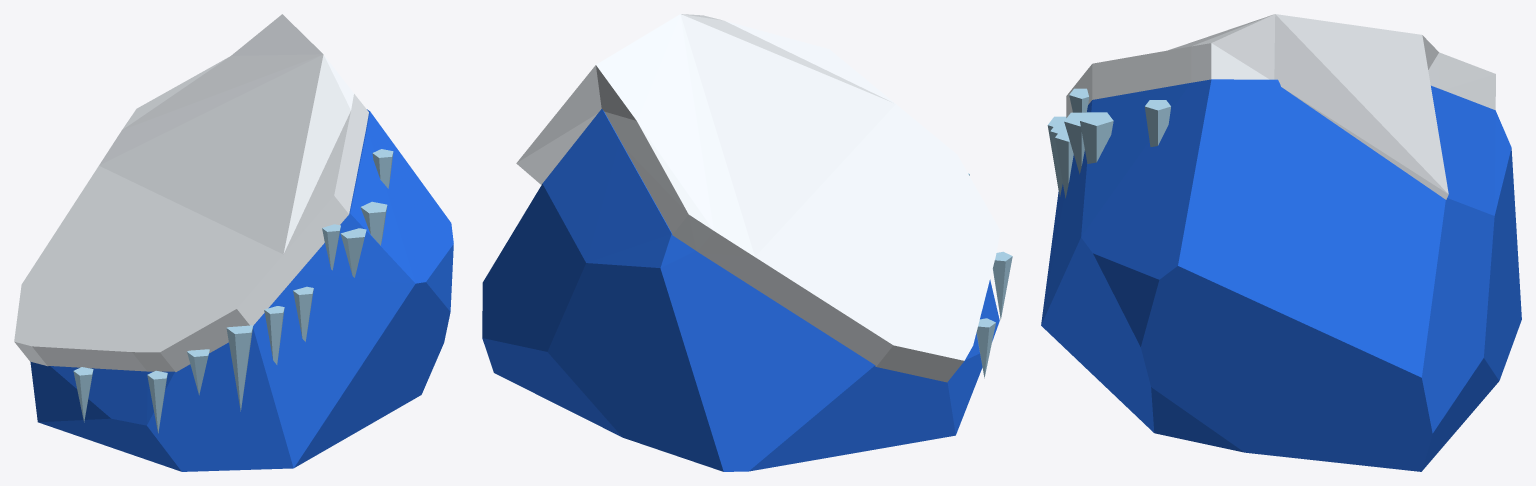
The model's file is DriftBoulder.fbx.
The picture shows the model from 3 angles, left to right: view 1: azimuth 30°, elevation 25°; view 2: azimuth 150°, elevation 25°; view 3: azimuth 270°, elevation 25°; orthographic projection. The views are drawn at different scales.
Visible parts, largest first — view 1: DriftBoulder_Snow, DriftBoulder, DriftBoulder_Icicles; view 2: DriftBoulder_Snow, DriftBoulder, DriftBoulder_Icicles; view 3: DriftBoulder, DriftBoulder_Snow, DriftBoulder_Icicles.
Part boxes in pixels (x1,y1,x2,y2): DriftBoulder_Snow: (14,14,368,371); DriftBoulder: (30,109,453,471); DriftBoulder_Icicles: (73,149,393,433); DriftBoulder_Snow: (516,14,1000,382); DriftBoulder: (482,109,999,471); DriftBoulder_Icicles: (968,173,1012,378); DriftBoulder: (1041,79,1521,471); DriftBoulder_Snow: (1066,14,1495,199); DriftBoulder_Icicles: (1047,88,1170,198).
Size of the model in its own units: 19.09 by 14.09 by 15.76.
